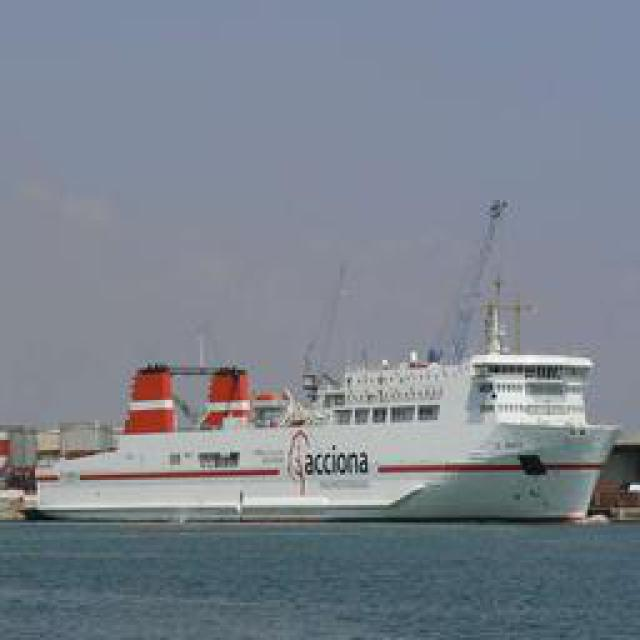Ship: (18, 340, 626, 525)
